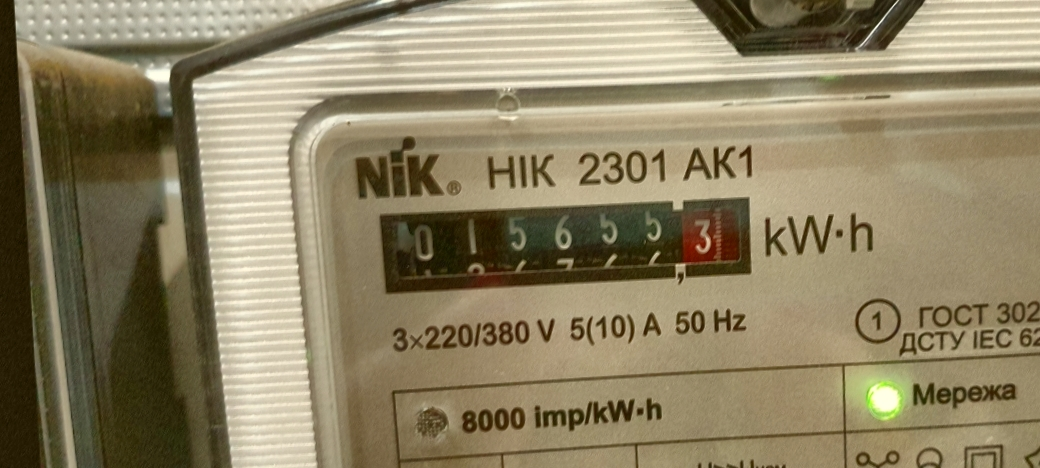0: (411, 221, 438, 263)
1: (463, 217, 483, 257)
3: (693, 218, 714, 255)
5: (505, 216, 531, 252), (598, 213, 622, 246), (645, 210, 665, 243)
6: (552, 214, 576, 251)
screen: (366, 178, 769, 311)
